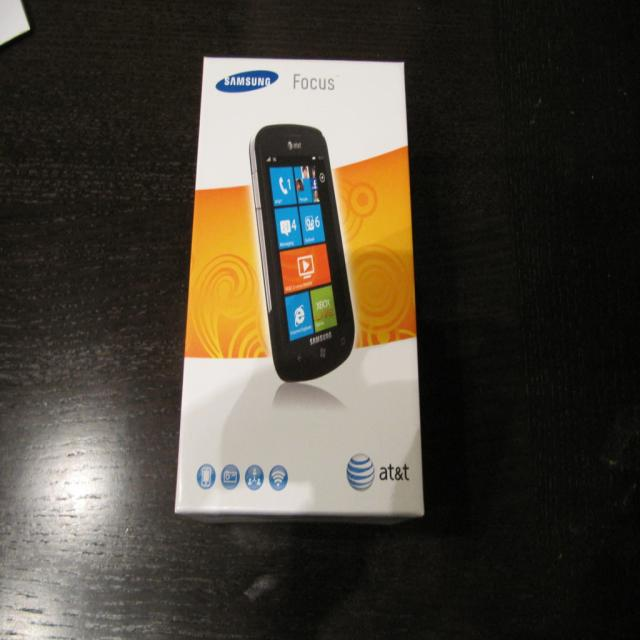Mobile-phone: (245, 127, 349, 380)
